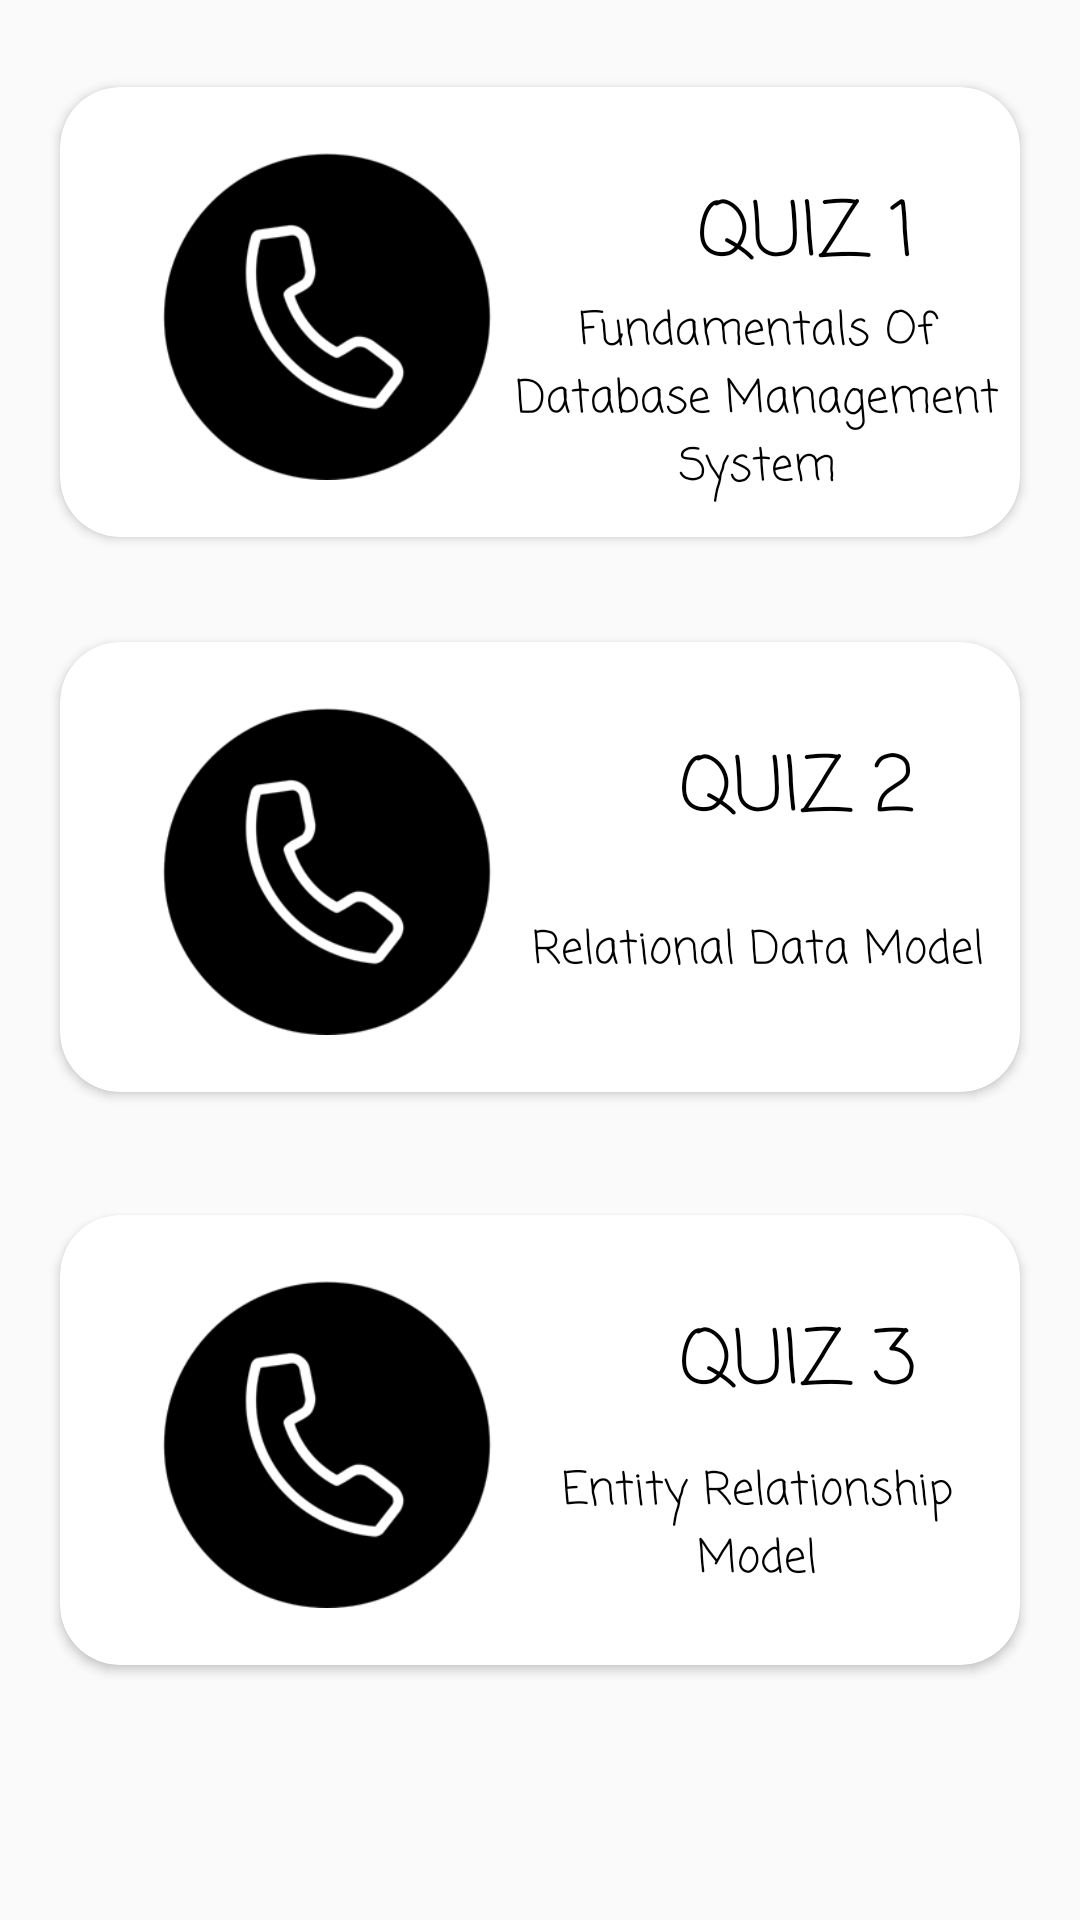

Screen size 1080×1920. Icon name, then its center in pixels as (x=x, y=y):
contact: (x=327, y=316), (x=327, y=871), (x=327, y=1444)
